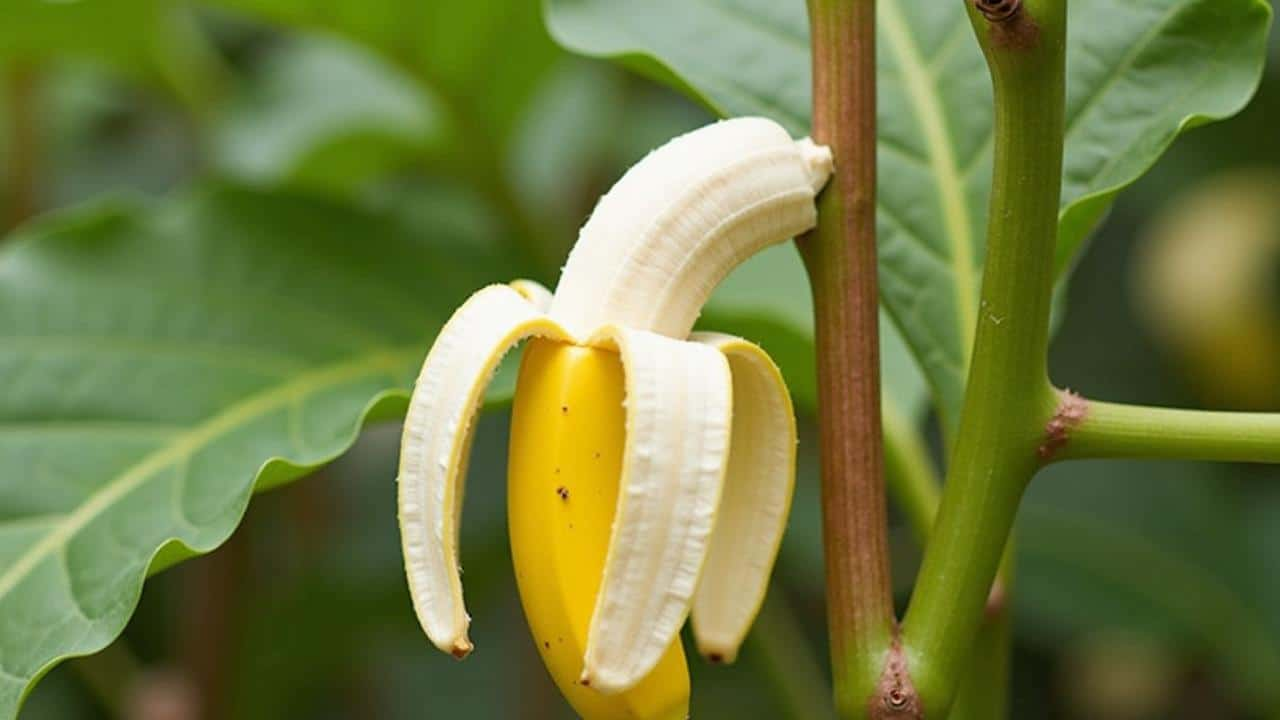banana: (400, 98, 845, 720)
